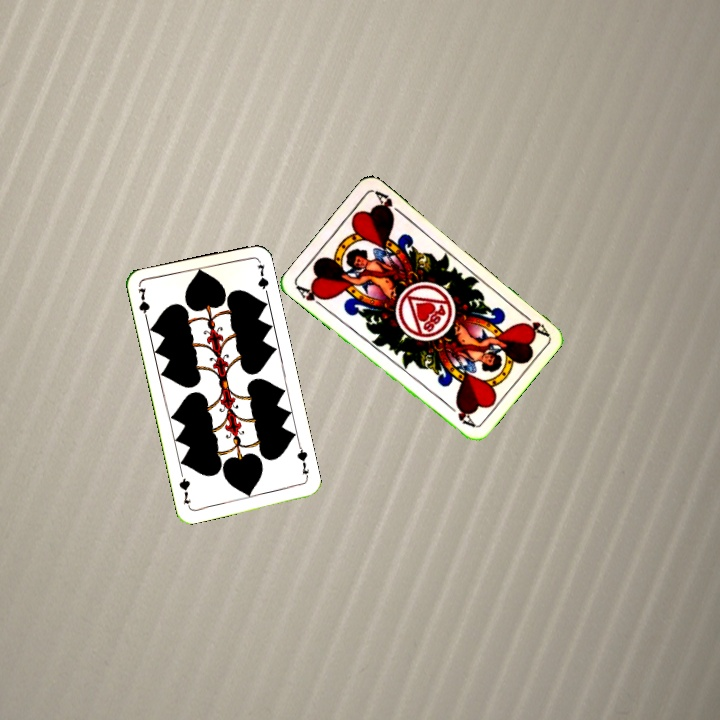G7: (293, 442, 312, 482), (134, 283, 152, 324)
HA: (515, 307, 551, 339), (292, 281, 328, 311)
